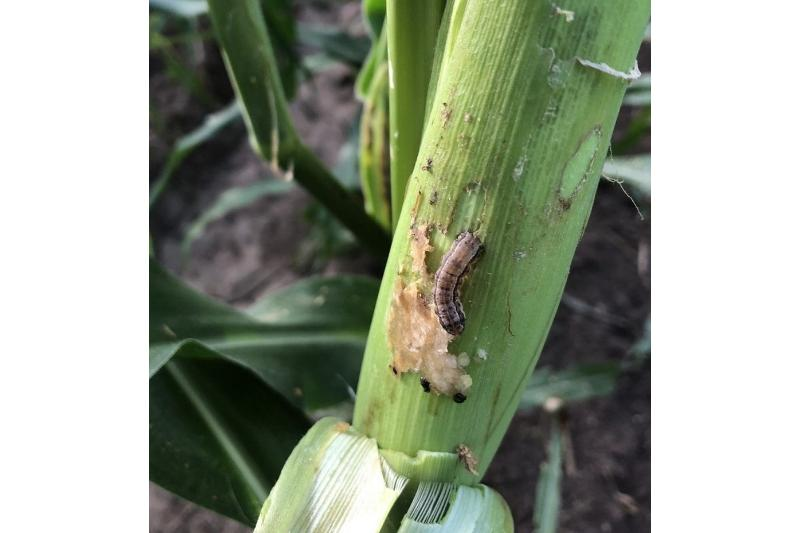fall-armyworm: (436, 233, 486, 337)
